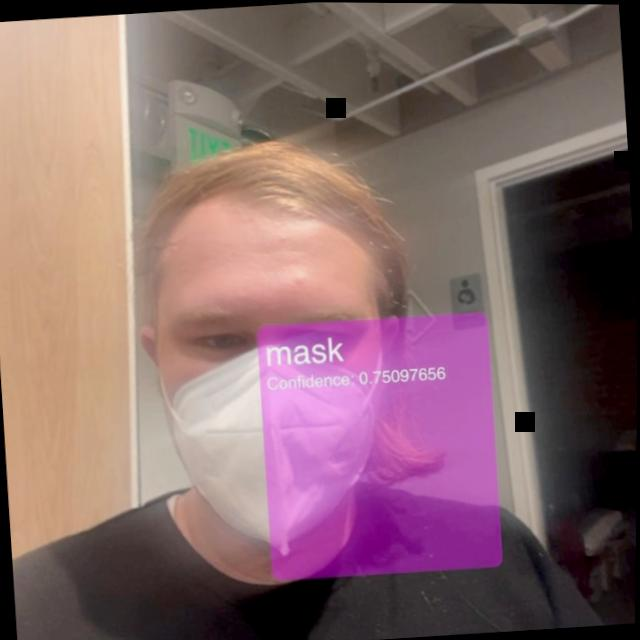Mask: (118, 142, 483, 622)
